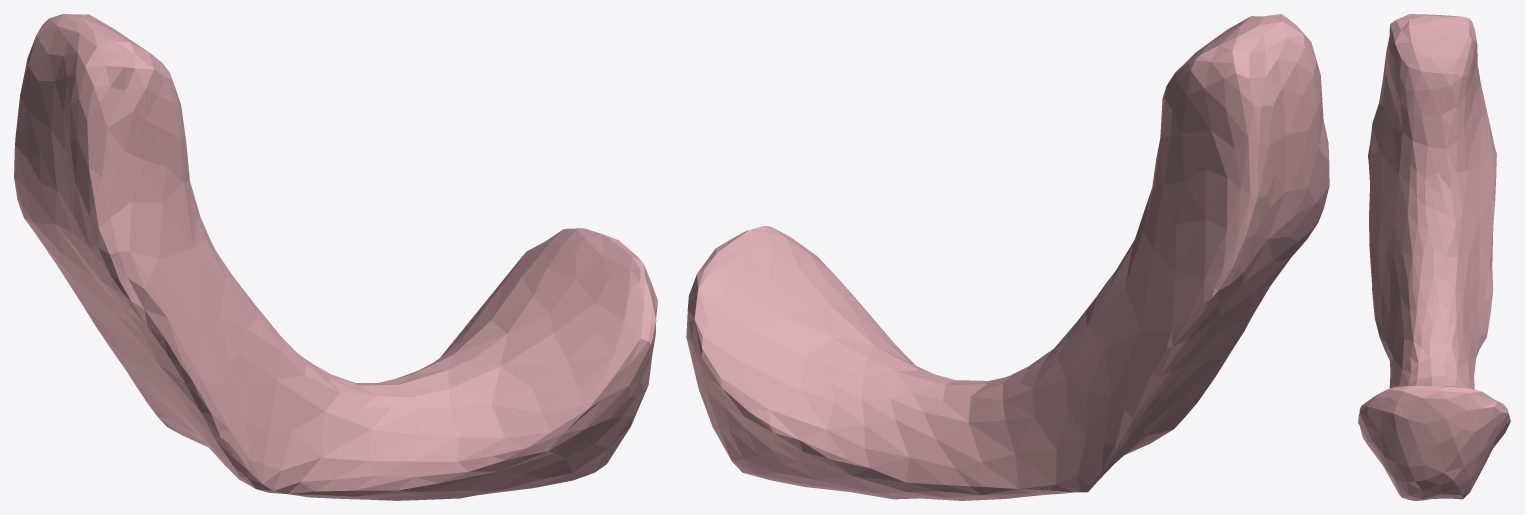
3 renders of one model, left to right at view 1: azimuth 30°, elevation 25°; view 2: azimuth 150°, elevation 25°; view 3: azimuth 270°, elevation 25°, orthographic. The views are drawn at different scales.
Parts seen in each view (by area): view 1: 149.obj; view 2: 149.obj; view 3: 149.obj.
Part boxes in pixels (<box>): 149.obj: <box>14,14,657,500</box>; 149.obj: <box>686,14,1329,500</box>; 149.obj: <box>1358,14,1510,500</box>.
Size of the model in its own units: 1918 by 1728 by 700.
